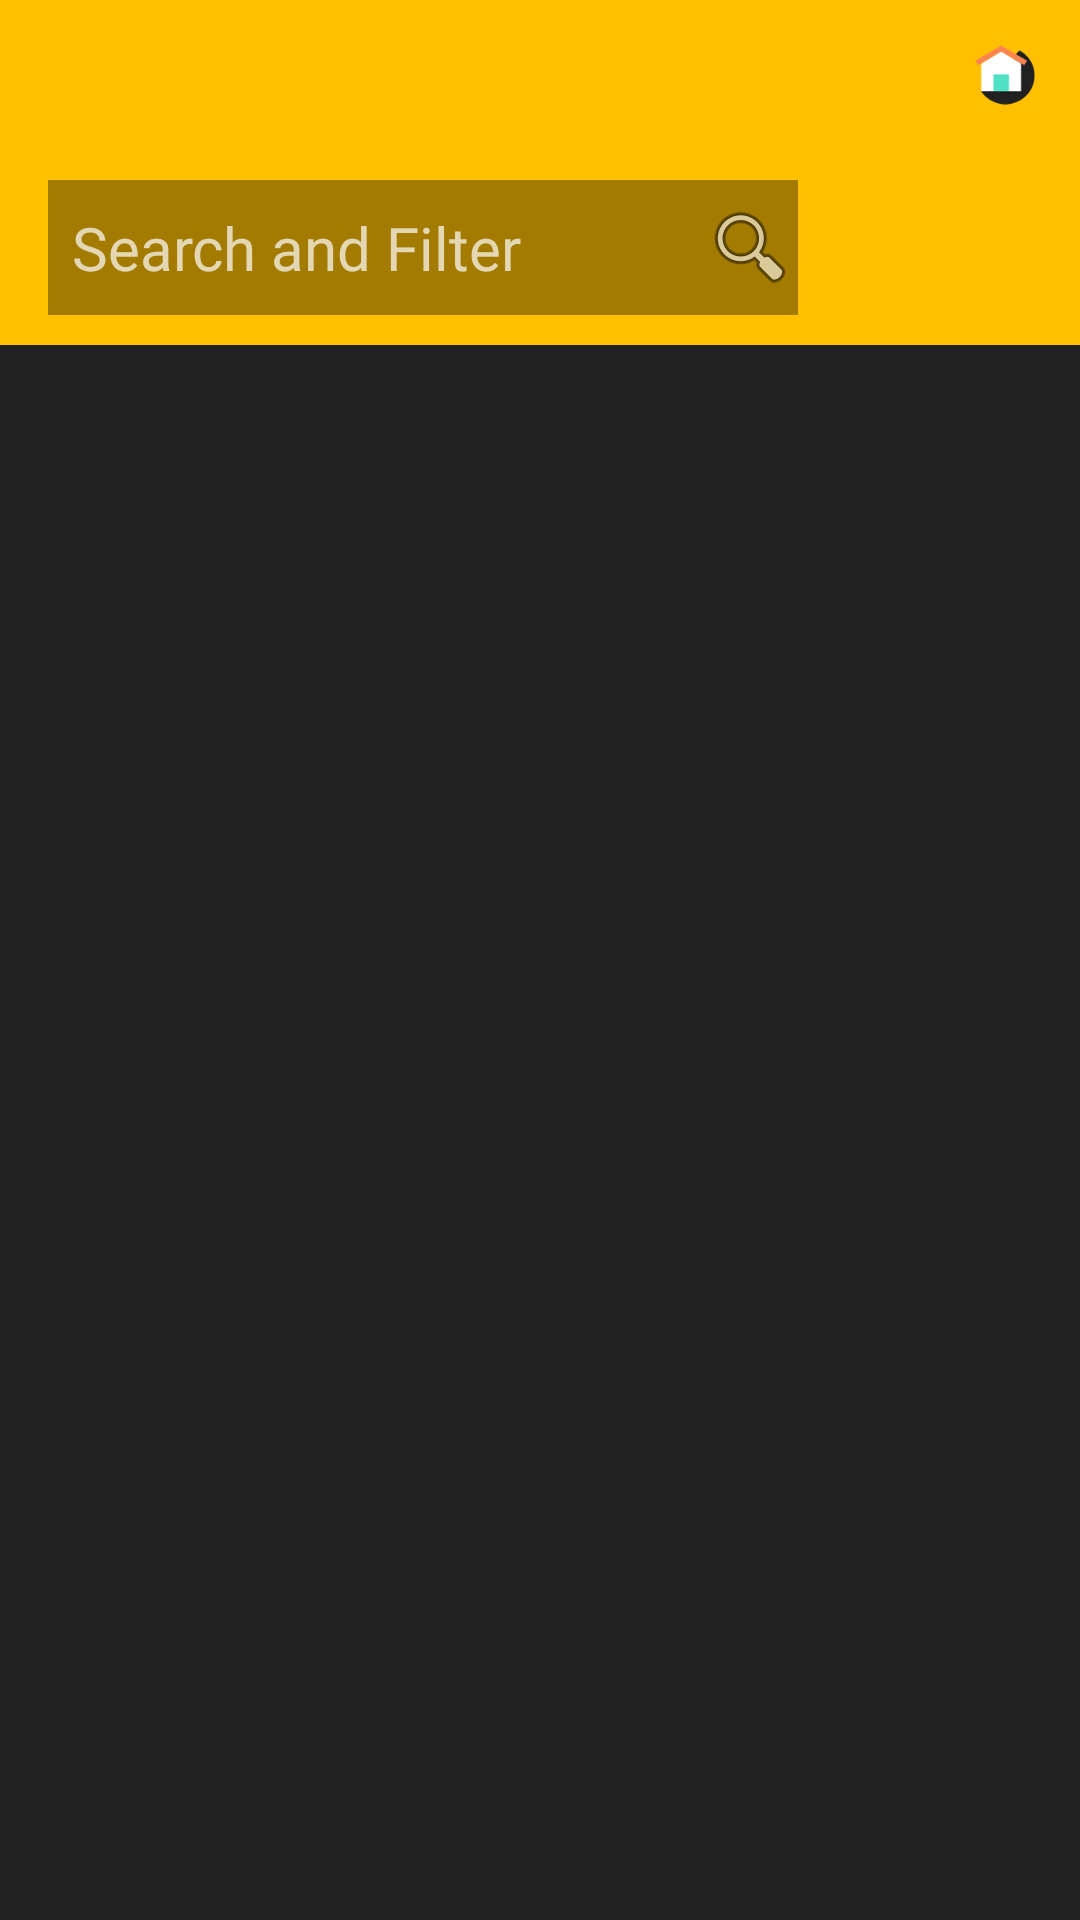

Screen size 1080×1920. Icon name, then its box in pixels as (x1, y1, x2, y2):
homeicon: (975, 45, 1035, 105)
